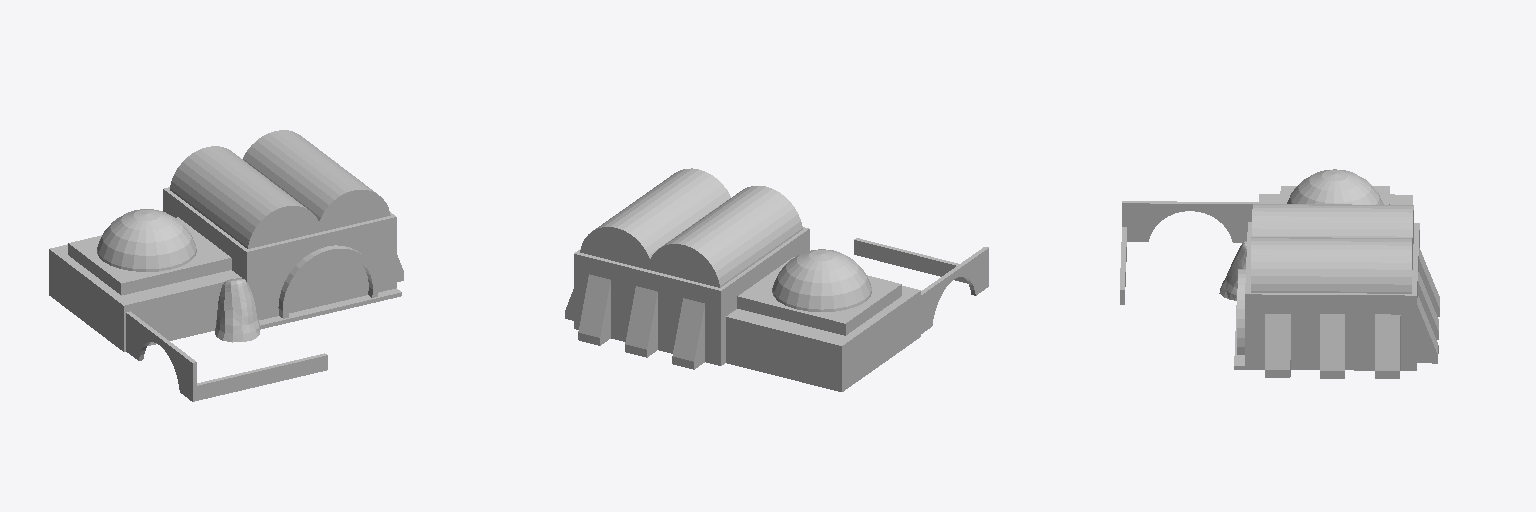
File: house3.obj
3 views of the same model, side by side, from view 1: azimuth 30°, elevation 25°; view 2: azimuth 150°, elevation 25°; view 3: azimuth 270°, elevation 25° (orthographic).
Parts seen in each view (by area): view 1: house3_Booleano_Nulo__Cilindro.001; view 2: house3_Booleano_Nulo__Cilindro.001; view 3: house3_Booleano_Nulo__Cilindro.001.
Part boxes in pixels (x1,y1,x2,y2): house3_Booleano_Nulo__Cilindro.001: (49, 130, 403, 401); house3_Booleano_Nulo__Cilindro.001: (565, 168, 988, 391); house3_Booleano_Nulo__Cilindro.001: (1120, 169, 1439, 378).
Size of the model in its own units: 23.57 by 8.79 by 22.93.